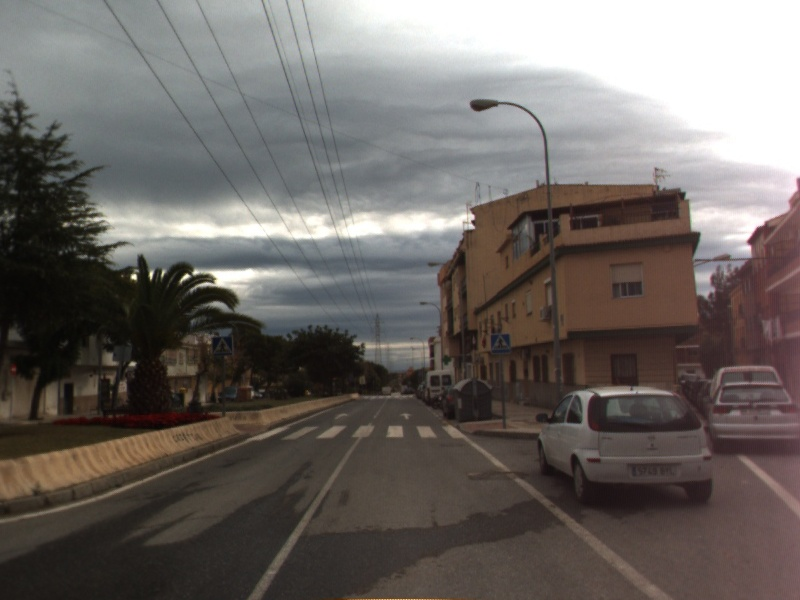STRAIGHT: (332, 411, 351, 422), (398, 411, 415, 421)
